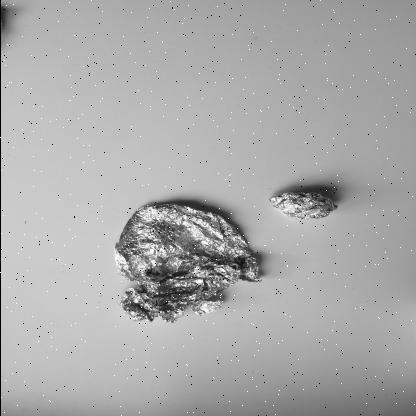metal: (112, 200, 264, 323), (266, 189, 338, 221)
